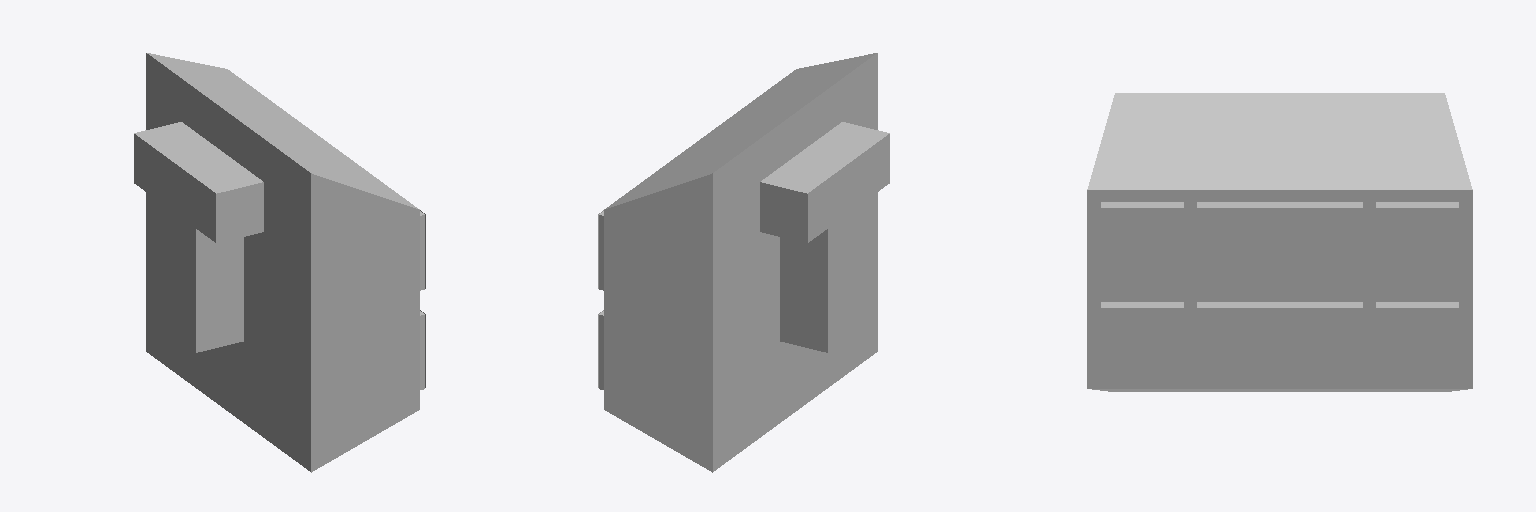
Rendered from bodyrollstandard.obj.
3 views of the same model, side by side, from view 1: azimuth 30°, elevation 25°; view 2: azimuth 150°, elevation 25°; view 3: azimuth 270°, elevation 25° (orthographic).
Parts seen in each view (by area): view 1: menu2, menu1, mount, cube; view 2: menu2, menu1, mount, cube; view 3: menu1, menu2, up_on2, down_on2, down_off1, up_off1.
Part boxes in pixels (x1,y1,x2,y2): menu2: (146,192,424,472); menu1: (146,53,424,371); mount: (155,199,243,352); cube: (134,122,263,243); menu2: (599,194,877,472); menu1: (599,53,877,371); mount: (780,199,868,352); cube: (760,122,889,243); menu1: (1087,93,1472,288); menu2: (1087,289,1472,391); up_on2: (1376,308,1458,382); down_on2: (1101,308,1183,382); down_off1: (1101,208,1183,282); up_off1: (1376,208,1458,282).
Size of the model in its own units: 0.2119 by 0.375 by 0.4375.